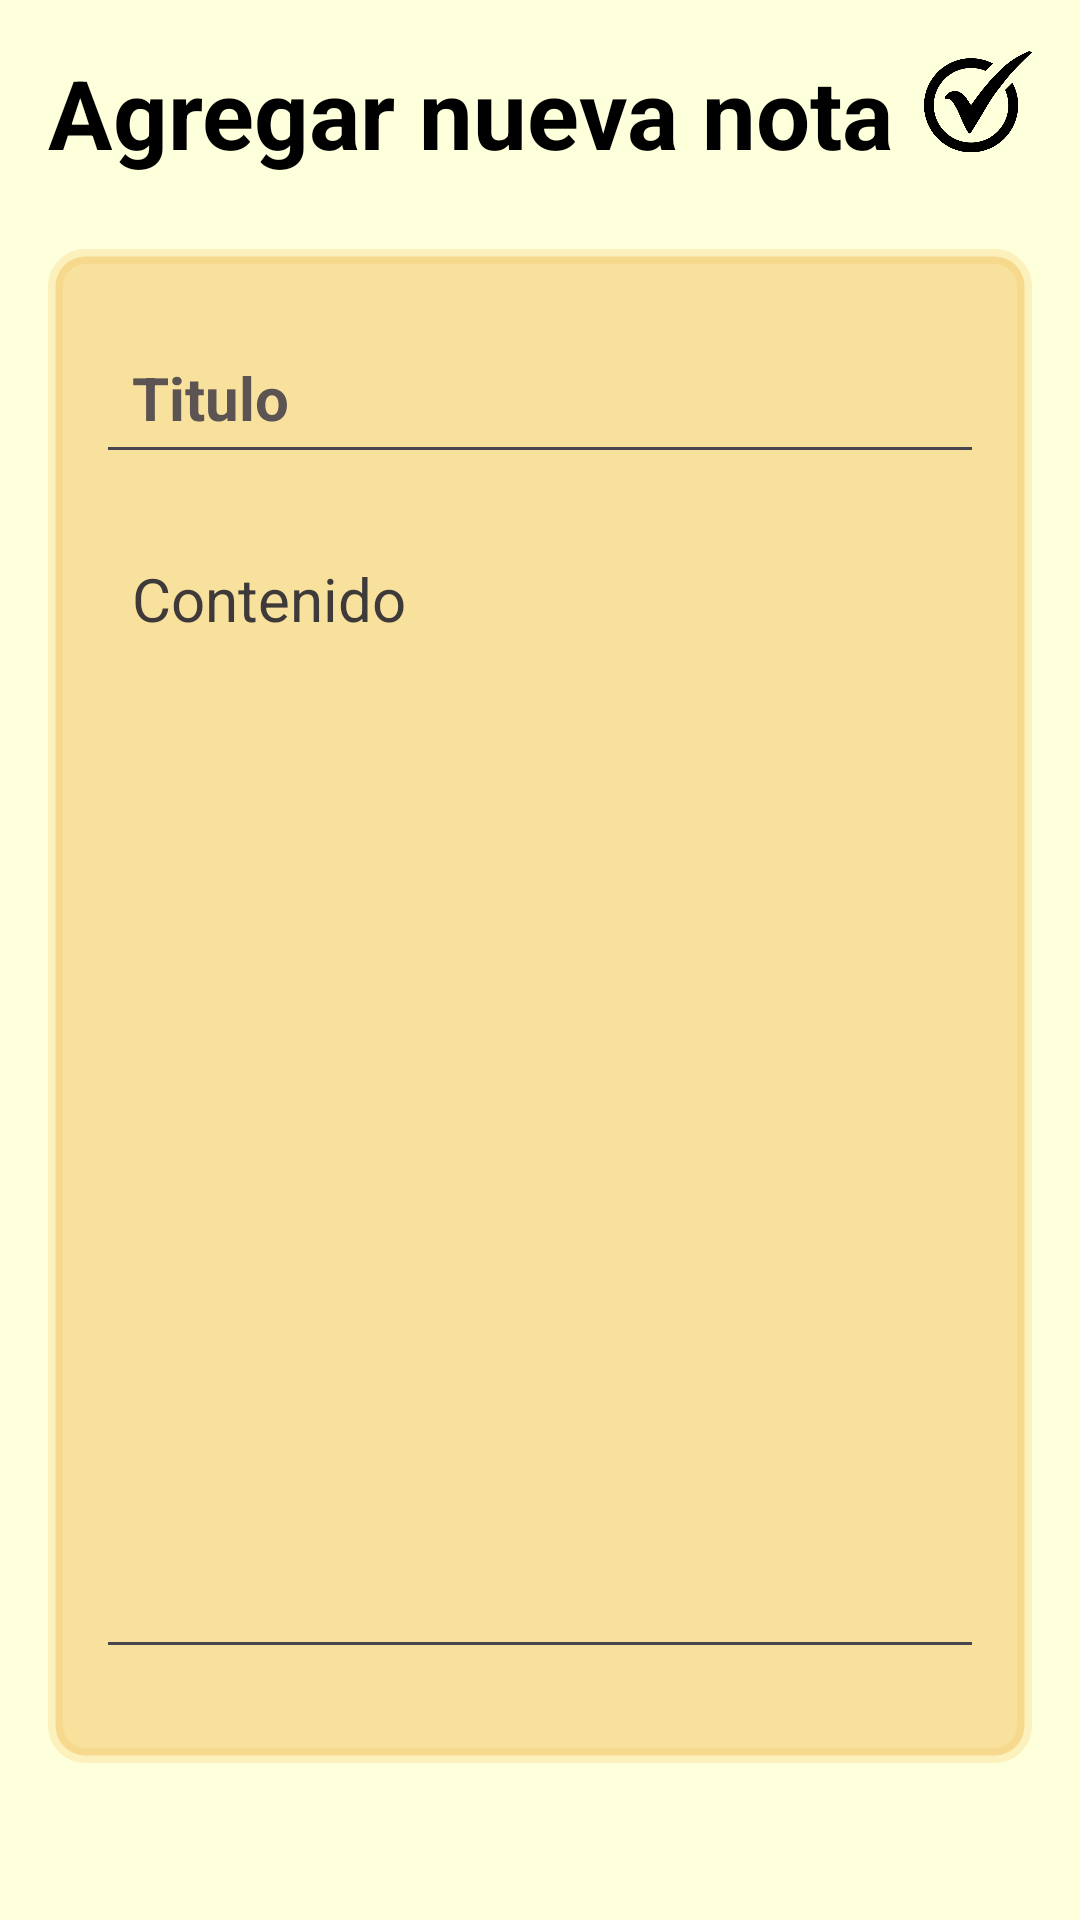

Where to tap for icons on this 1080w x 1920h app screen, as (x,y):
check: (978,101)
